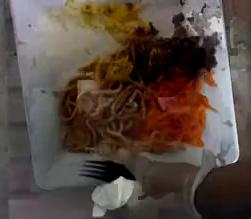asian_noodles: (61, 26, 213, 151)
